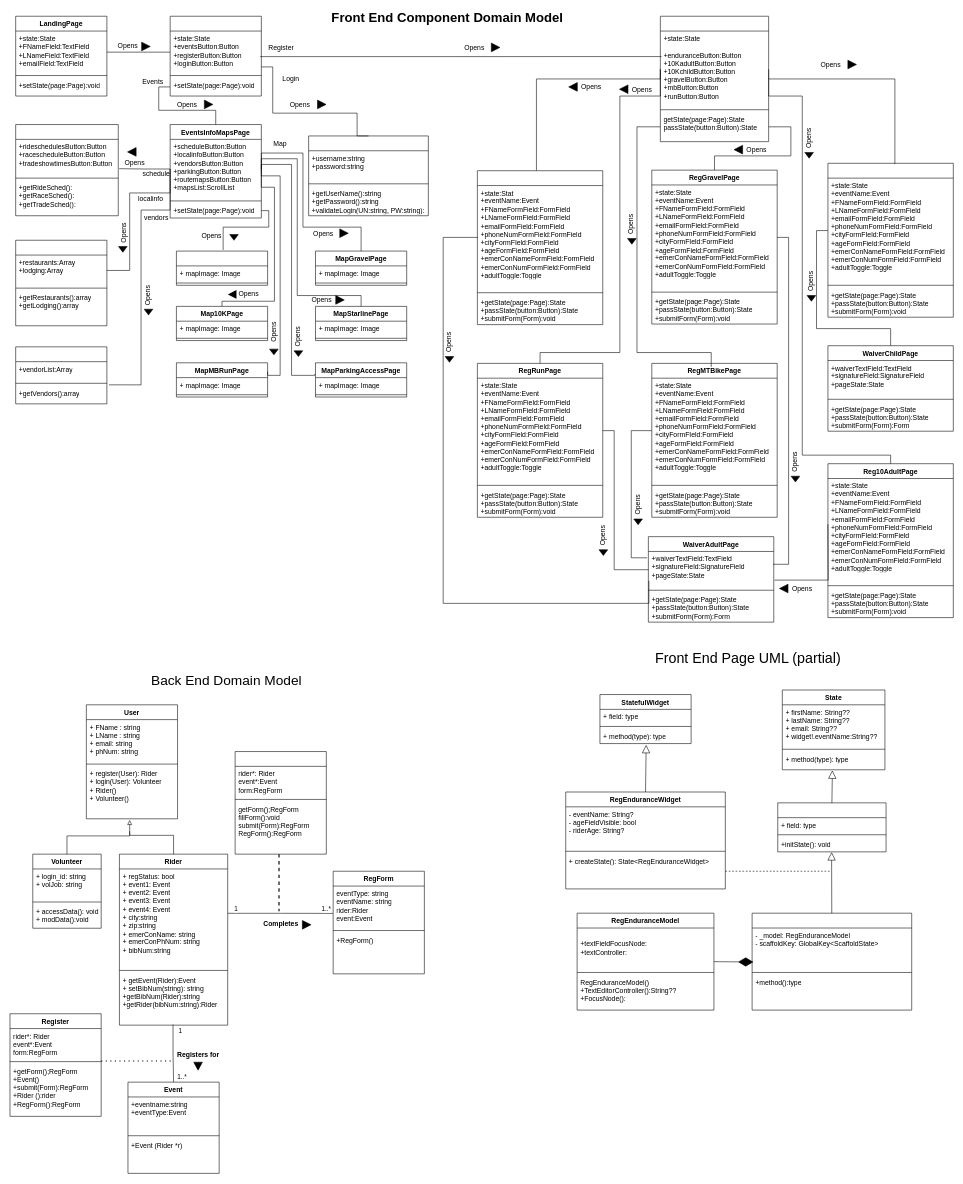
The diagram is 963 pixels wide and 1184 high, and some of its shapes have lost their labels. The box of each missing label's shape, as (x1, y1, x2, y2) in pixels:
_RegEnduranceWidgetState: (752, 913, 912, 1010)
LocalInfoPage: (15, 240, 107, 326)
LoginPage: (308, 135, 428, 216)
MainPage: (170, 16, 261, 96)
MakeForm: (235, 751, 326, 854)
MapEnduranceRidesPage: (176, 251, 268, 285)
Reg10KChildPage: (827, 163, 953, 317)
RegEndurancePage: (477, 170, 603, 325)
RegistrationChoicePage: (660, 16, 769, 142)
SchedulePage: (15, 124, 118, 216)
State<RegEnduranceWidget>: (777, 802, 886, 852)
TradeShowPage: (15, 346, 107, 404)
